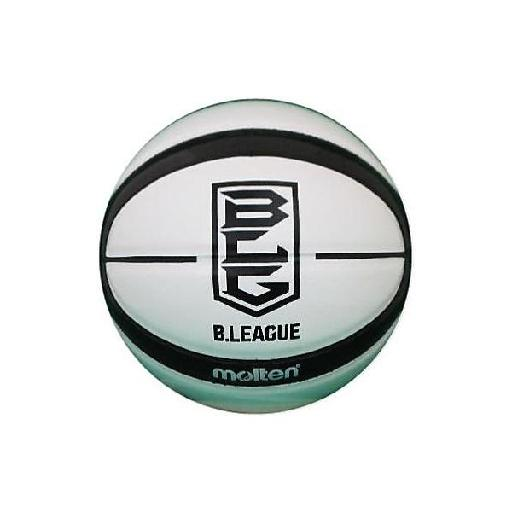ball: (102, 98, 410, 413)
